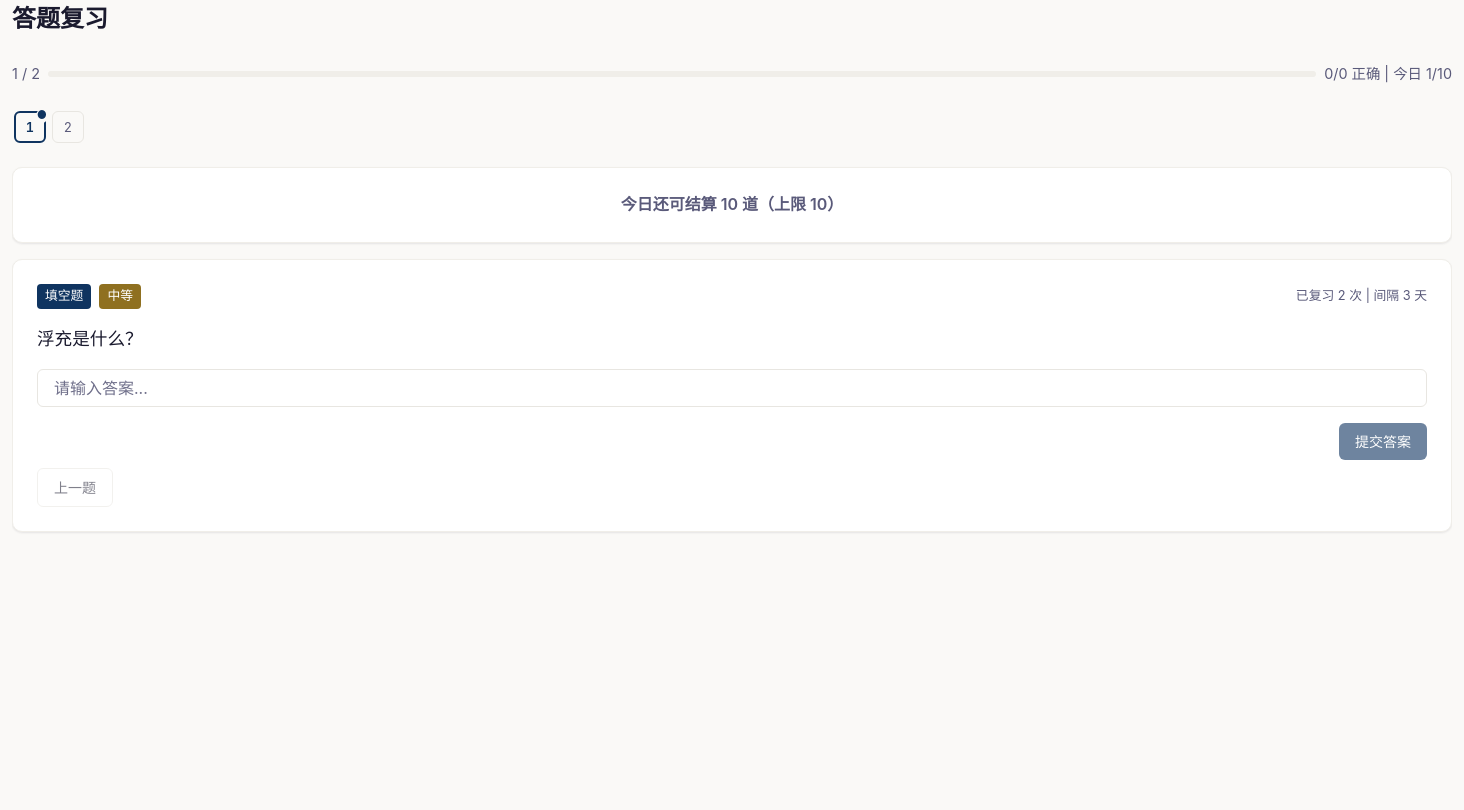
Test: 答题复习的进度显示（与卡片复习页共用同一组件） › ★ 进度条把"刚结账的这一张"算进去：提交后从 0% 涨到 50%
This screenshot has width=1464, height=810.
Expected: the text "浮充是什么？" is shown, [37,328,143,348]
Type "恒压运行" into the field with placeholder "请输入答案..." at (732, 388), box [37,369,1427,407]
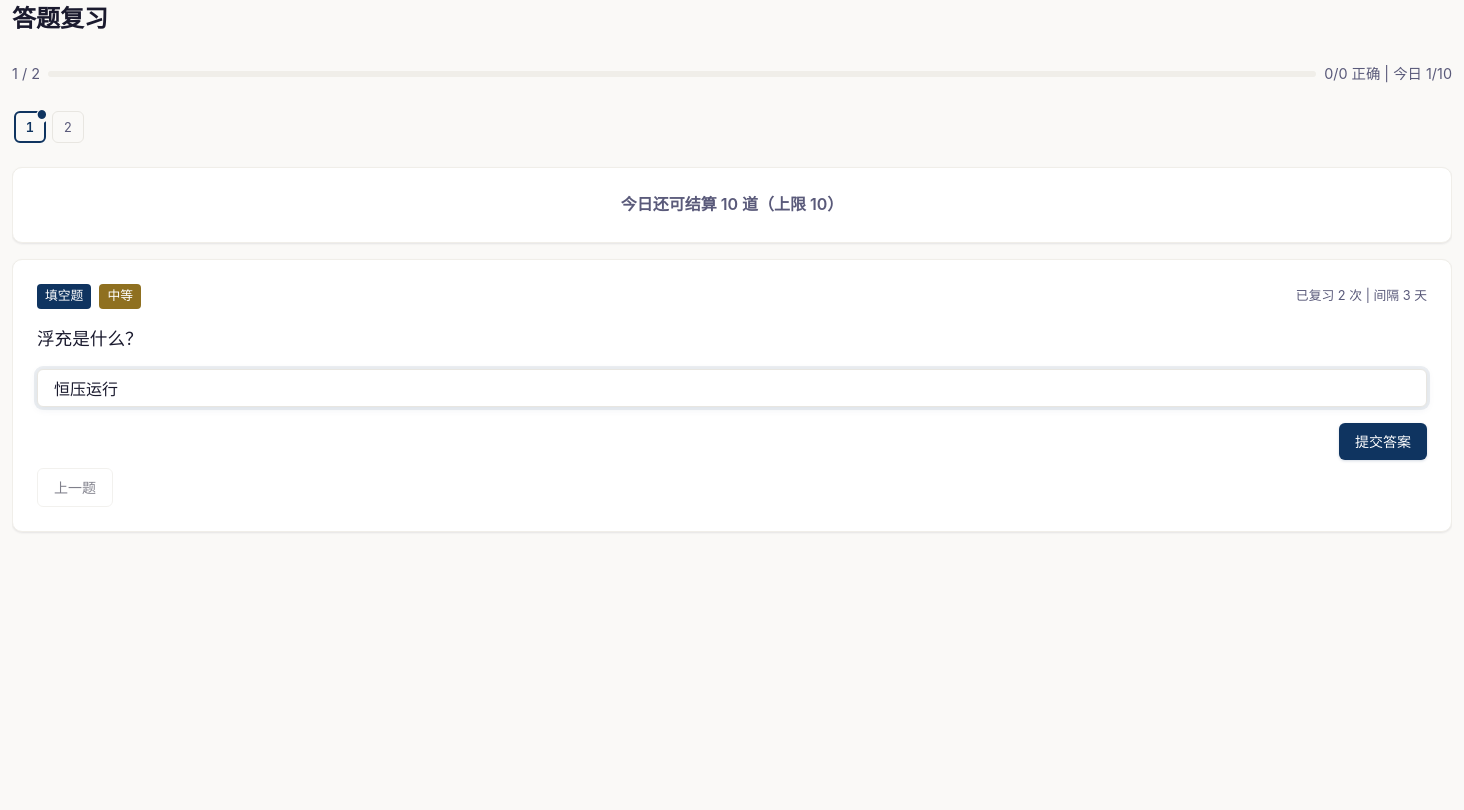
Click the button "提交答案" at (1383, 441), box [1339,423,1427,460]
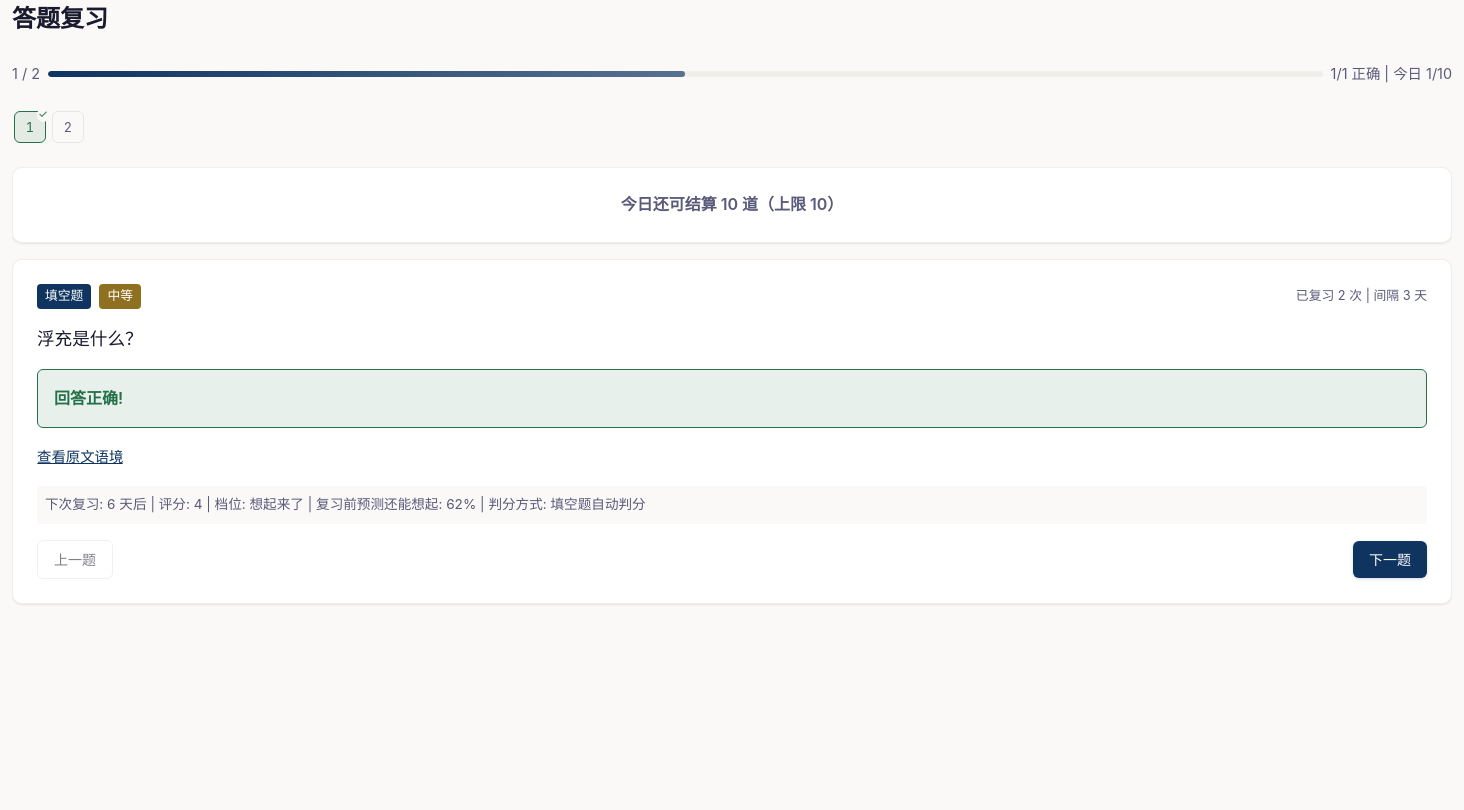
Result: the text "回答正确!" is shown at [54,388,123,408]
